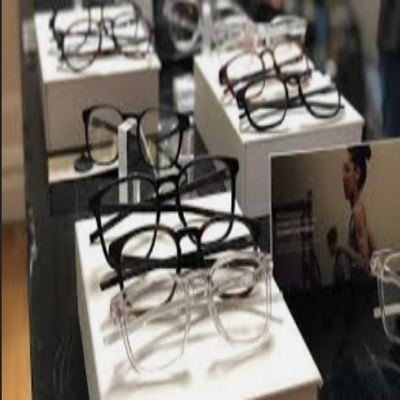glasses: (110, 251, 281, 375), (90, 155, 241, 253), (236, 71, 348, 131), (58, 14, 156, 75)
